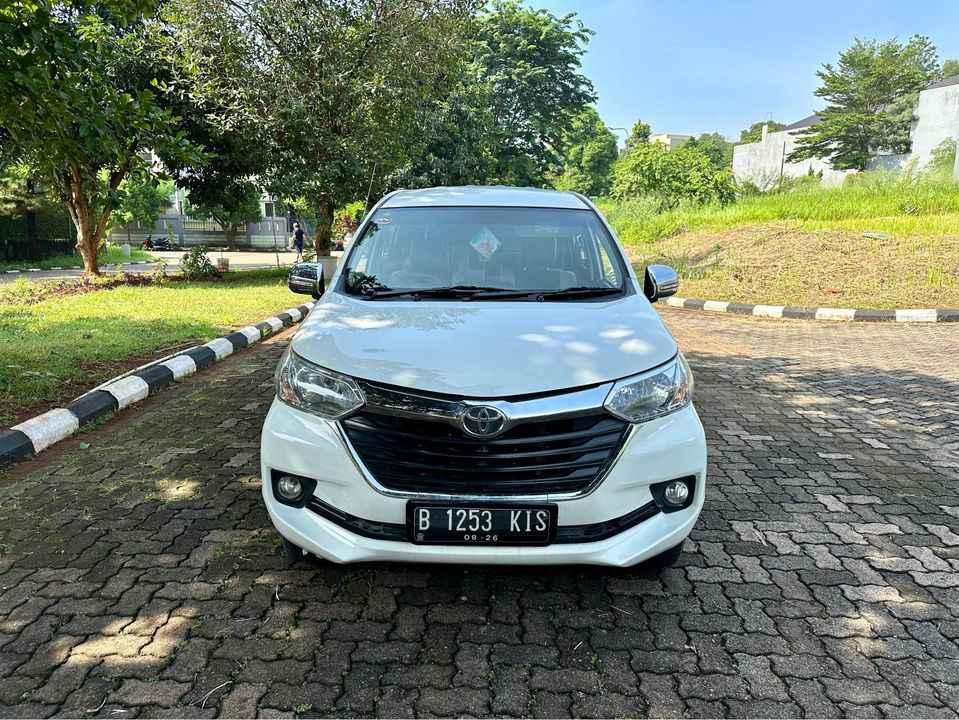plat nomor: (402, 494, 559, 550)
